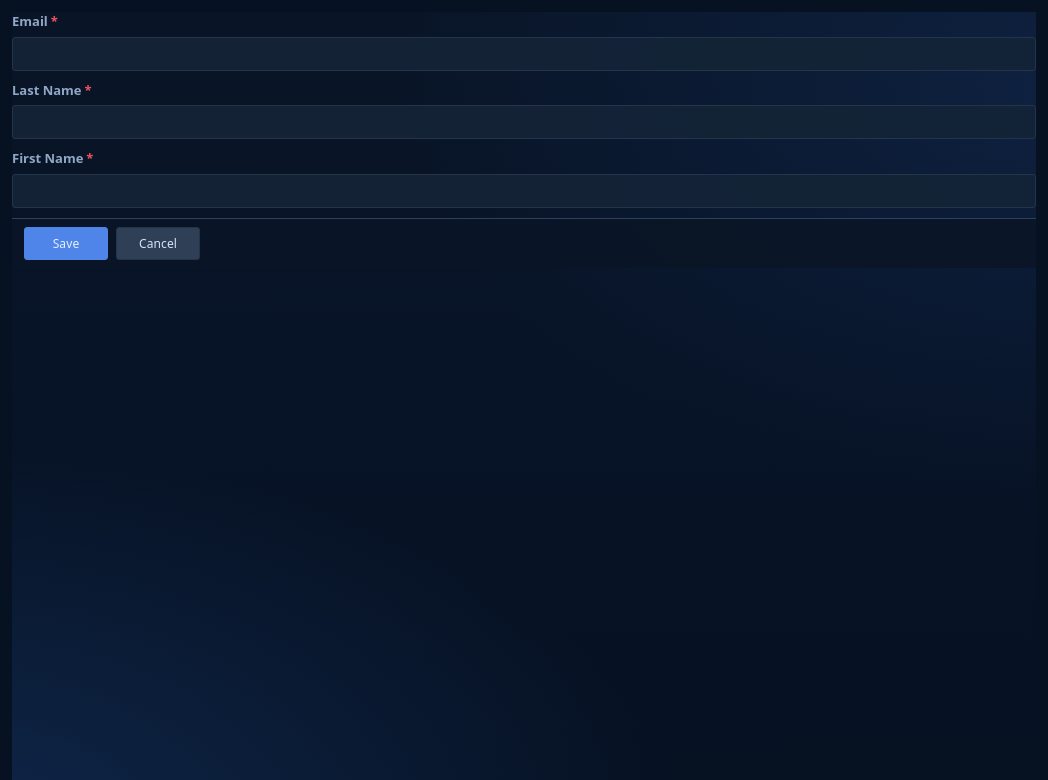
Test: DynamicForm component › shows required errors when saving empty default schema form
Click the button "Save".
click(66, 243)  # box [24,226,108,260]
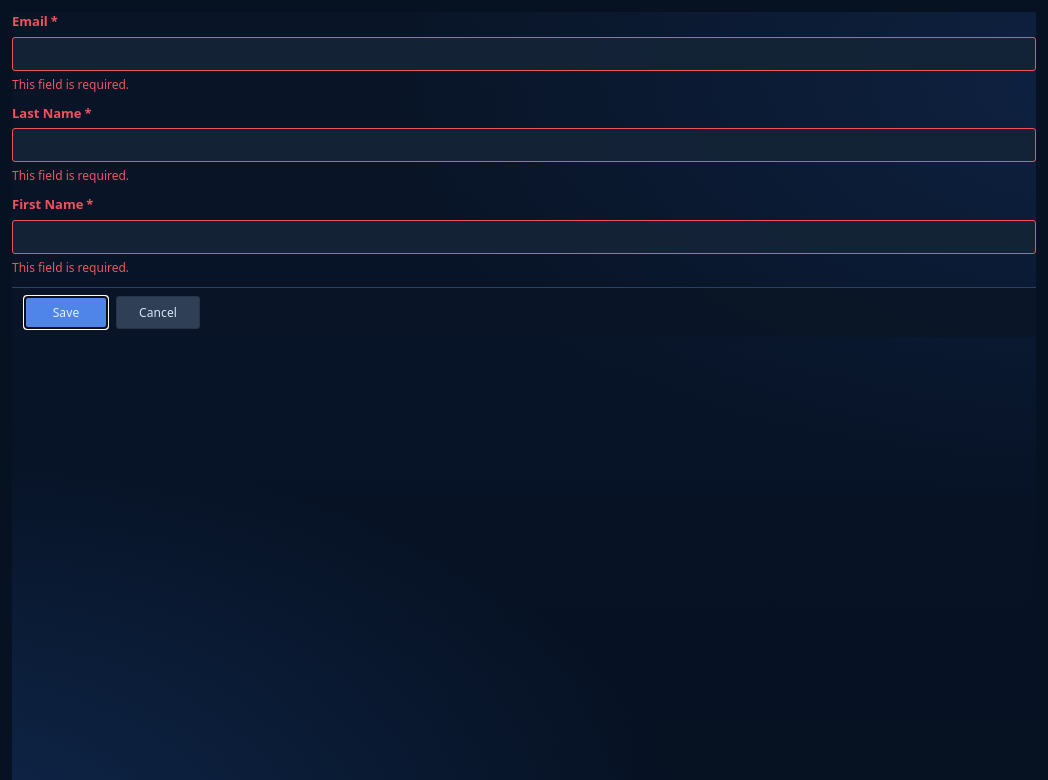
Now the text "This field is required." is shown 3 times, box [12,76,129,92]; [12,167,129,184]; [12,258,129,276]
